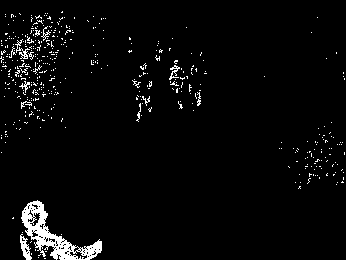person: (20, 199, 102, 260), (134, 63, 153, 122), (170, 58, 188, 109)
